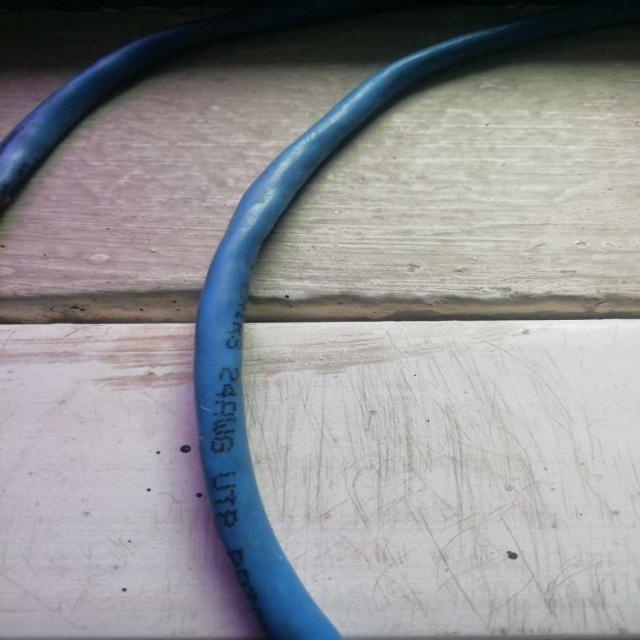cao_su: (194, 0, 640, 640), (0, 0, 377, 209)
